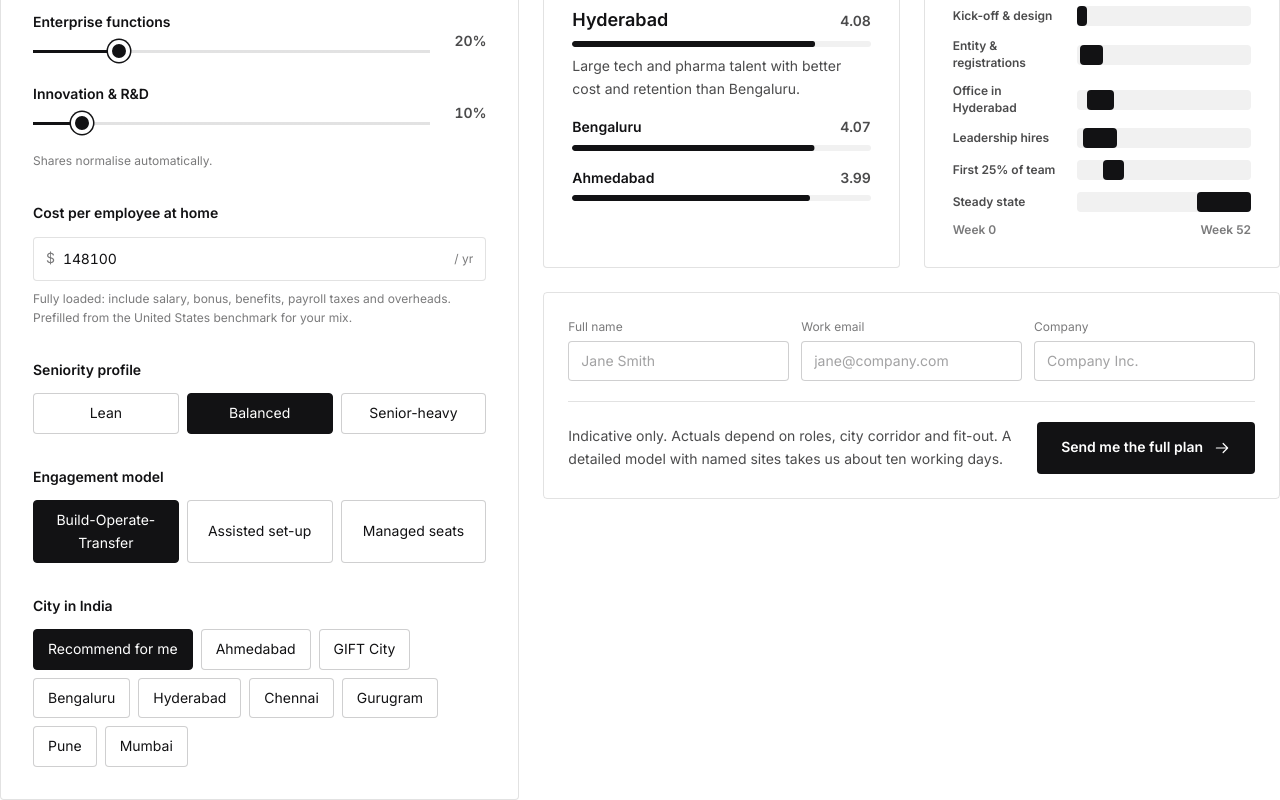
CostCalculator (GCC Planner) › a valid plan request posts the profile and shows the confirmation
The image size is (1280, 800).
(page scrolled)
Click the button "Managed seats" at (413, 532), box left=340, top=500, right=486, bottom=563
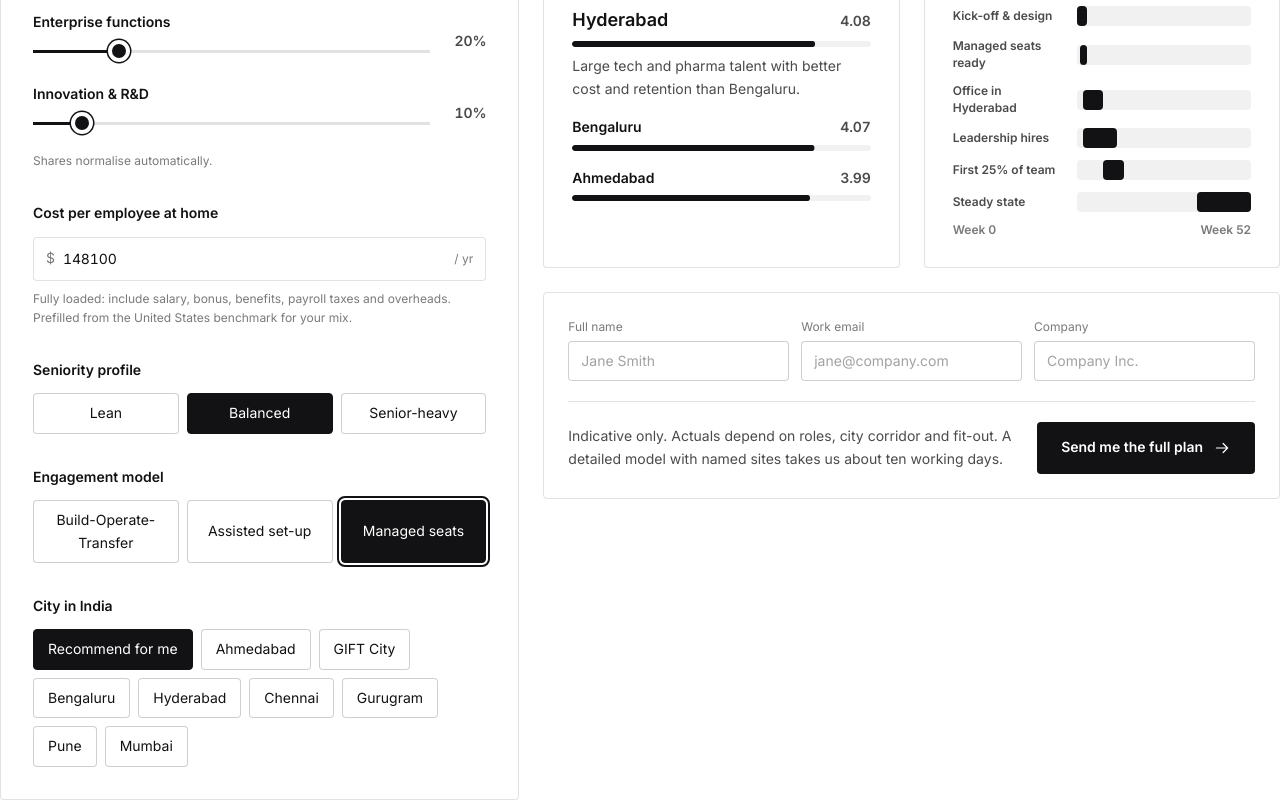
Type "Ada Lovelace" into the field labelled "Full name" at (679, 360), box left=568, top=340, right=789, bottom=380
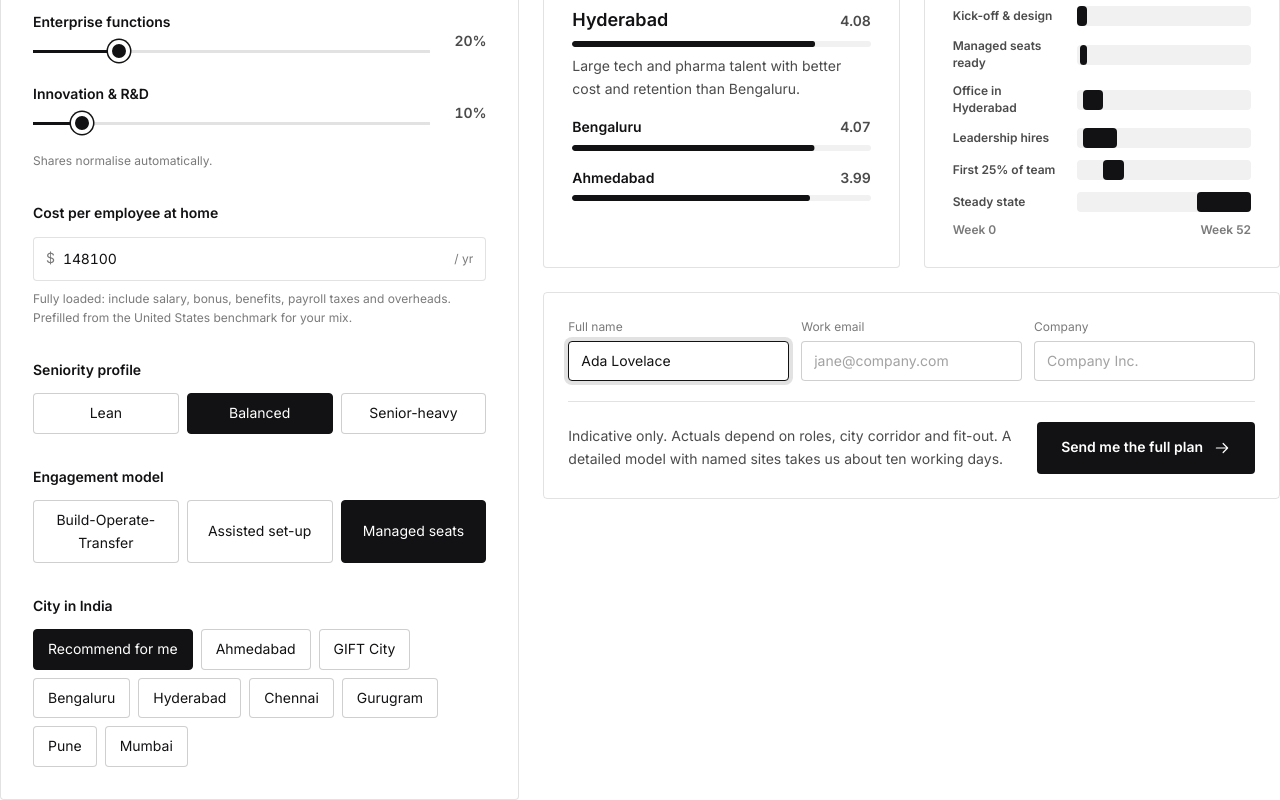
Type "ada@example.com" into the field labelled "Work email" at (912, 360), box left=801, top=340, right=1022, bottom=380
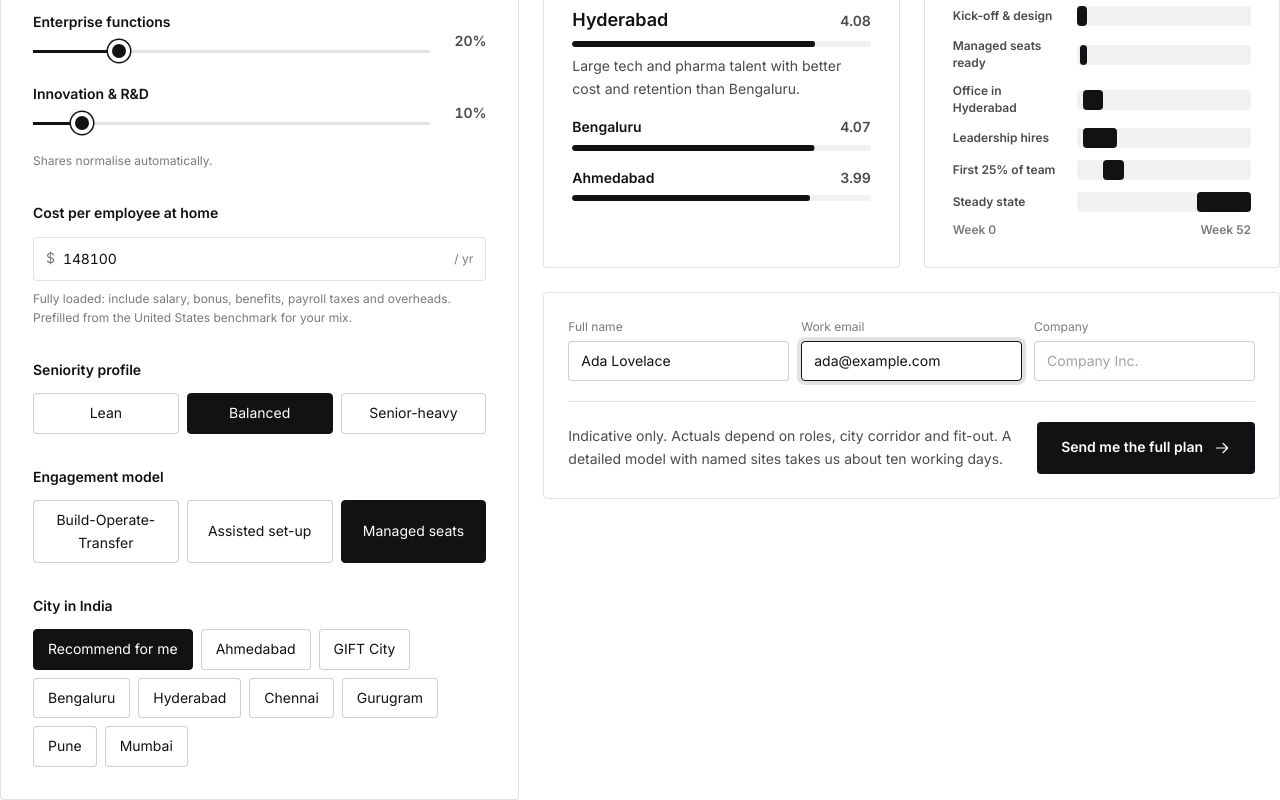
Type "Example Co" into the field labelled "Company" at (1145, 360), box left=1034, top=340, right=1255, bottom=380
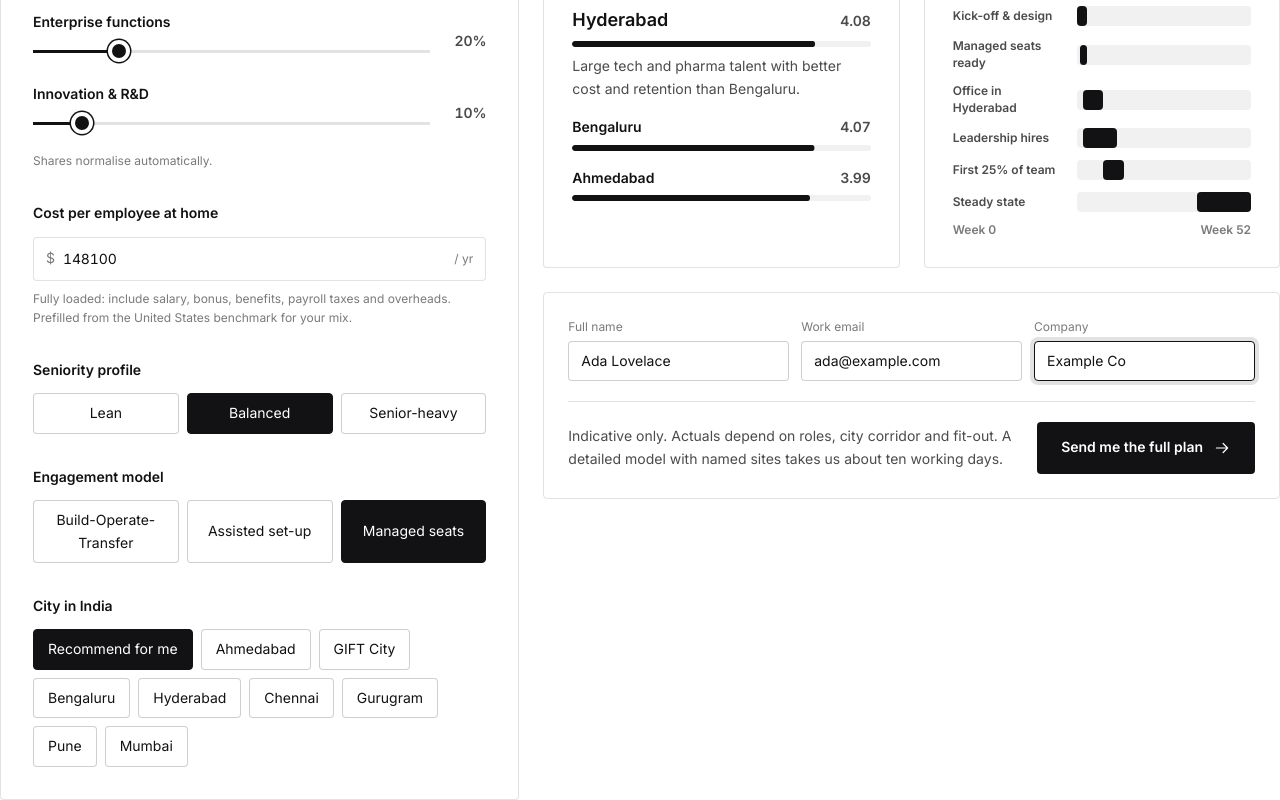
Click the button "Send me the full plan →" at (1146, 448), box left=1037, top=422, right=1255, bottom=474
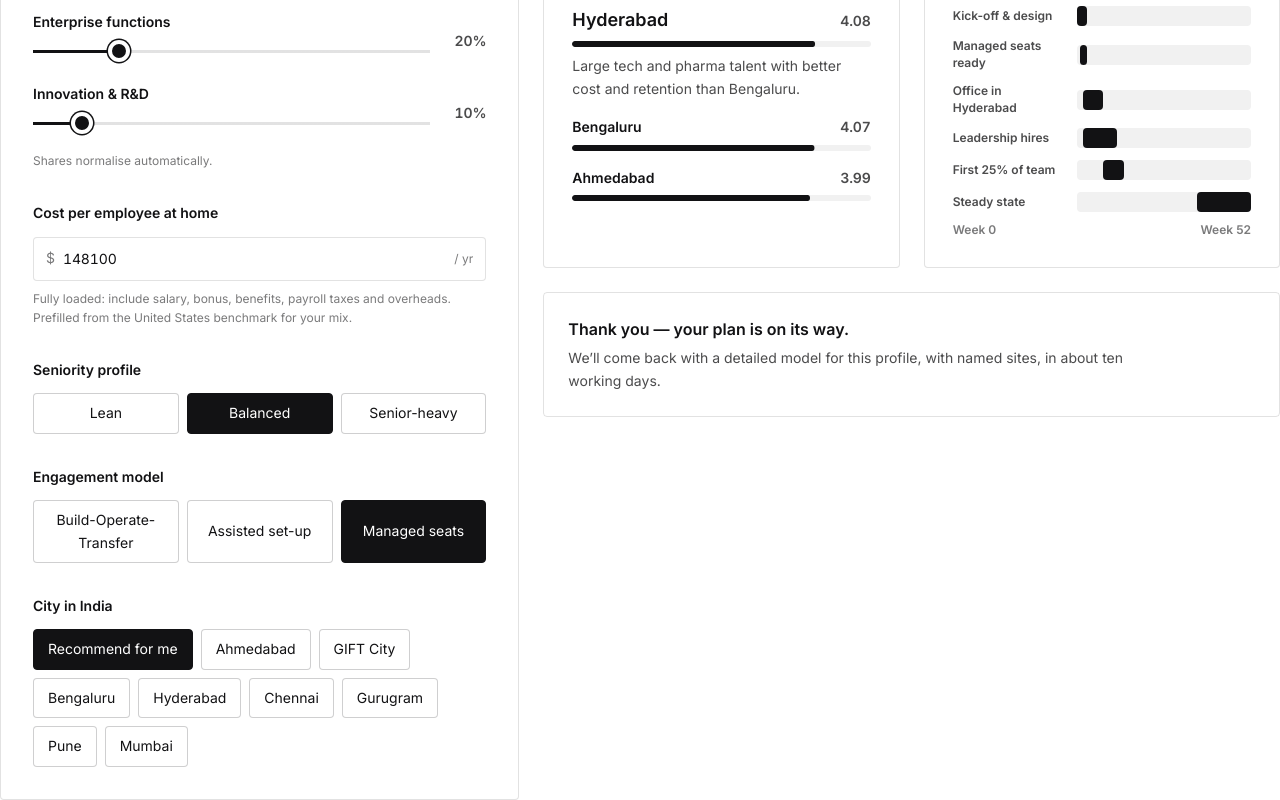
Expected: the button "Managed seats" is shown, left=340, top=500, right=486, bottom=563
Expected: the text "Thank you — your plan is on its way." is shown, left=568, top=319, right=849, bottom=339
